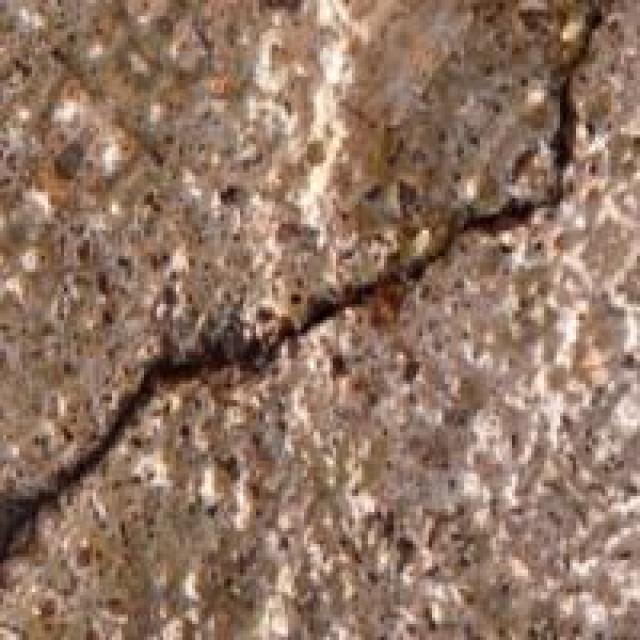crack: (0, 0, 617, 550)
